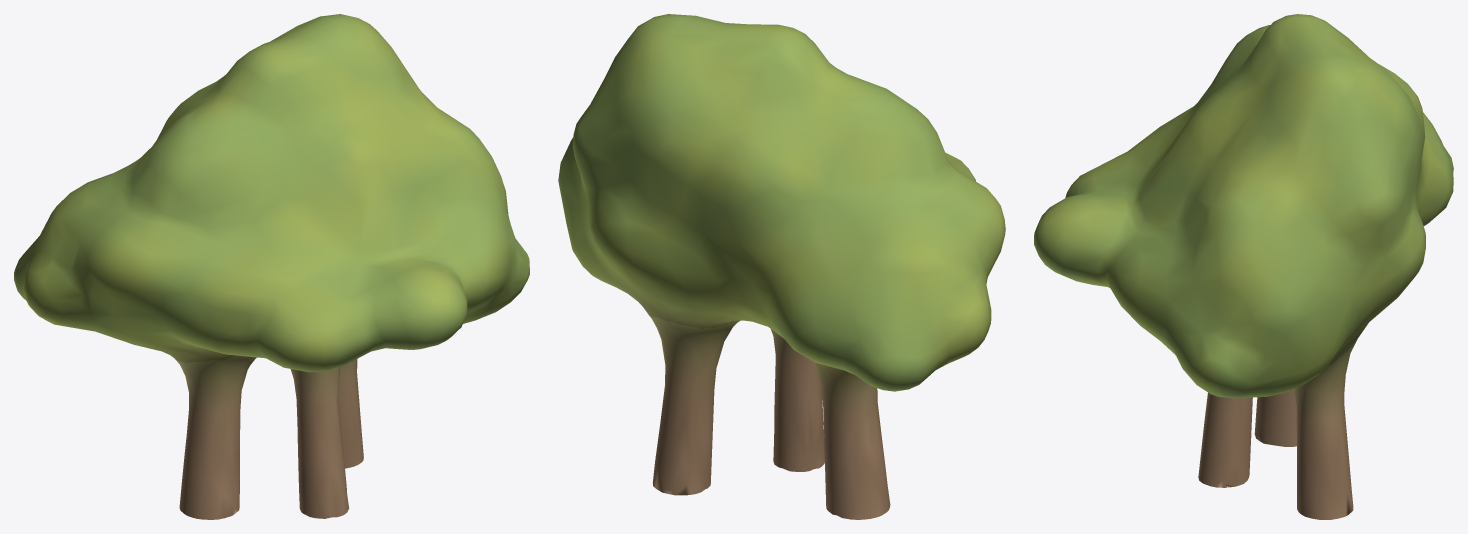
The model's file is cluster0.glb.
3 views of the same model, side by side, from view 1: azimuth 30°, elevation 25°; view 2: azimuth 150°, elevation 25°; view 3: azimuth 270°, elevation 25° (orthographic). The views are drawn at different scales.
Visible parts, largest first — view 1: body; view 2: body; view 3: body.
Part boxes in pixels (x1,y1,x2,y2): body: (14, 14, 529, 519); body: (558, 14, 1005, 519); body: (1034, 14, 1453, 519).
Bounding box in the file's own units: 9.26 × 8.85 × 7.44.
